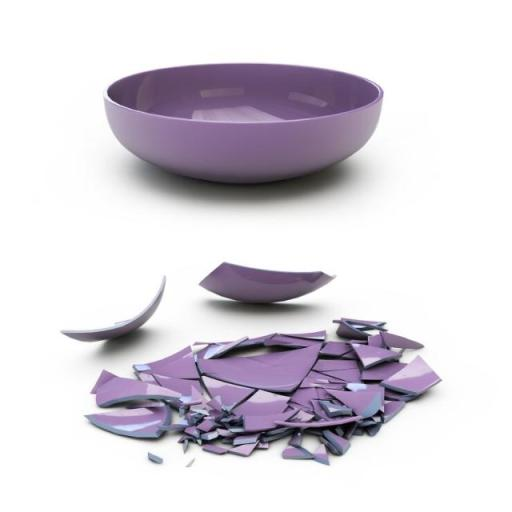glass: (50, 256, 441, 448), (91, 63, 388, 190), (192, 336, 330, 400), (58, 272, 166, 342), (189, 260, 343, 308), (90, 372, 188, 409), (82, 403, 172, 438), (132, 344, 202, 383), (198, 336, 248, 360), (332, 318, 387, 339), (216, 333, 276, 352), (264, 331, 325, 348), (374, 330, 424, 350), (90, 370, 119, 394), (366, 333, 388, 349), (196, 419, 217, 434), (202, 444, 227, 454), (147, 452, 163, 464)
